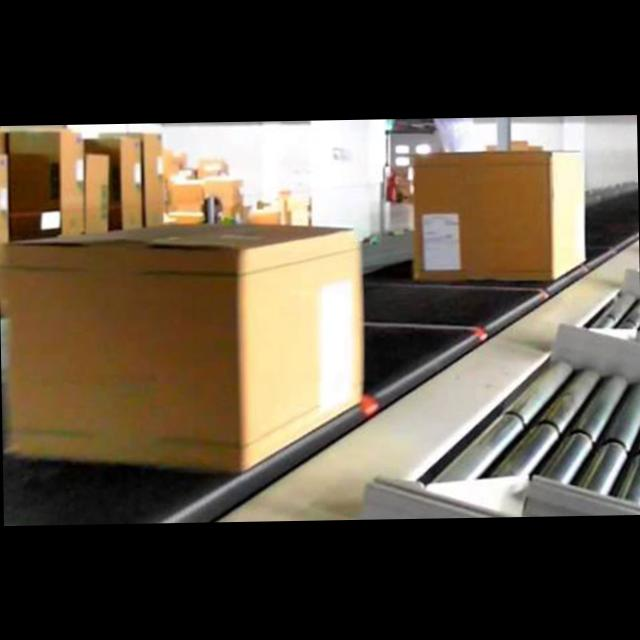box: (0, 218, 365, 475), (410, 150, 588, 284)
